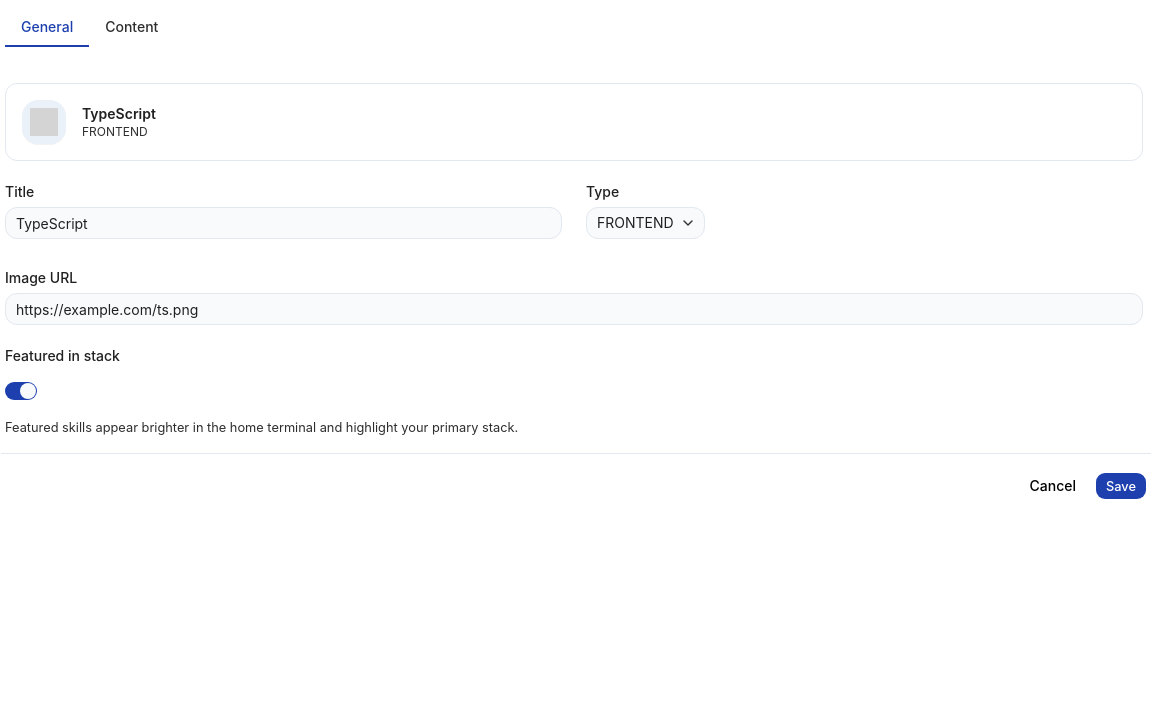
Test: SkillForm › navigates to Content tab and renders AdminFormLanguageBar and fields
This screenshot has width=1152, height=720.
Click the tab "Content".
click(132, 27)  # box [89,7,174,47]
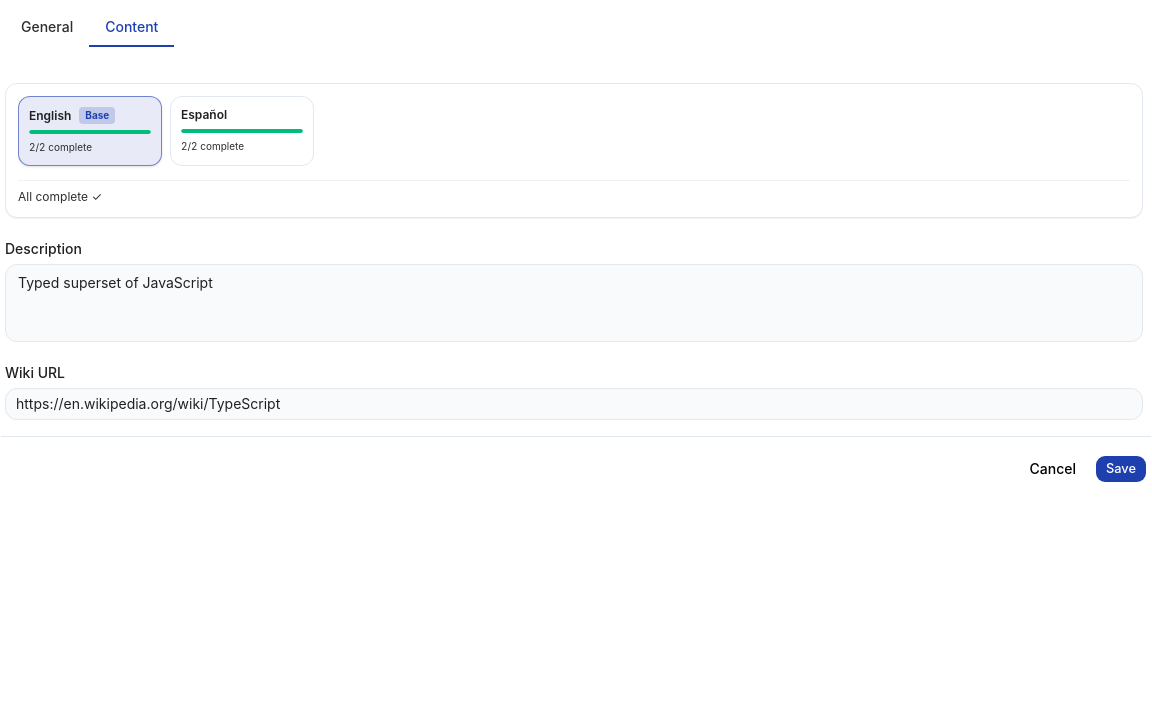
Result: the text "English" is shown at [29,108,71,124]
Result: the text "Español" is shown at [181,107,227,123]
Result: the text box showing "Typed superset of JavaScript" is shown at [5,264,1143,342]
